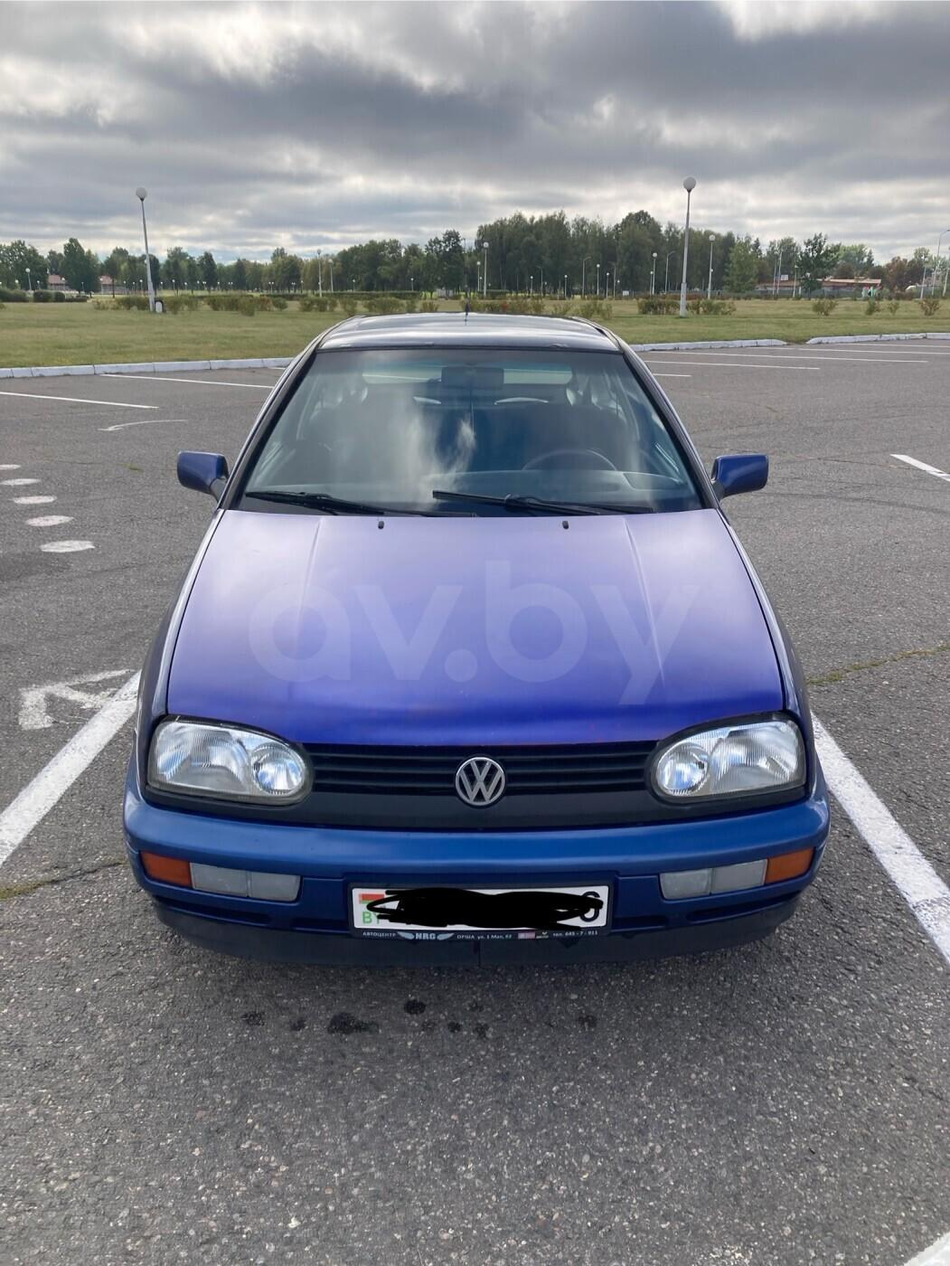Golf_1991-2000: (129, 310, 829, 960)
